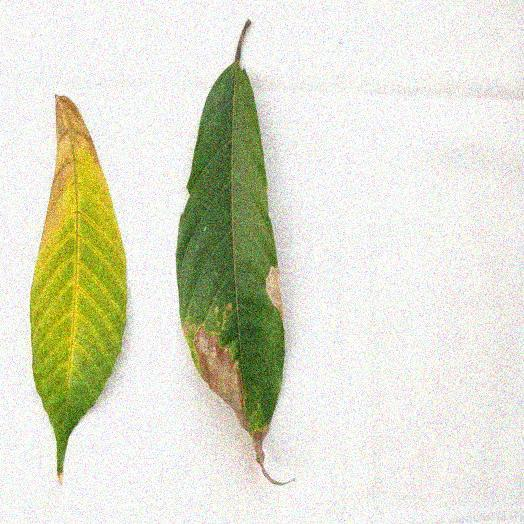Potassium: (178, 20, 291, 484), (30, 96, 126, 480)
